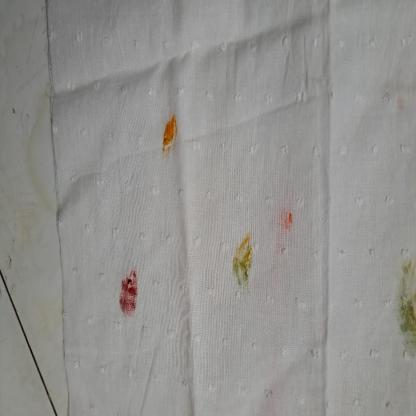spot: (398, 256, 416, 368), (234, 228, 257, 294), (118, 263, 140, 318), (161, 112, 180, 155), (280, 204, 296, 234)
